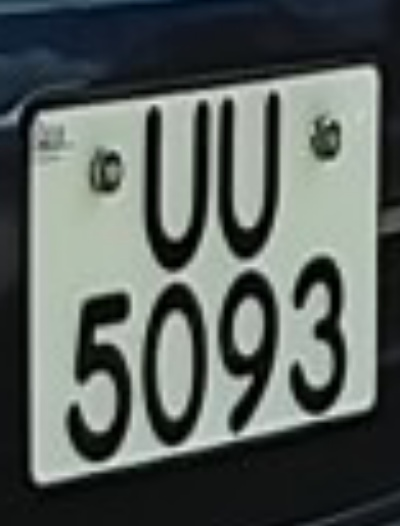0: (138, 271, 219, 458)
3: (281, 249, 357, 427)
5: (59, 281, 140, 471)
9: (212, 256, 286, 442)
U: (132, 79, 221, 288), (211, 66, 295, 270)
